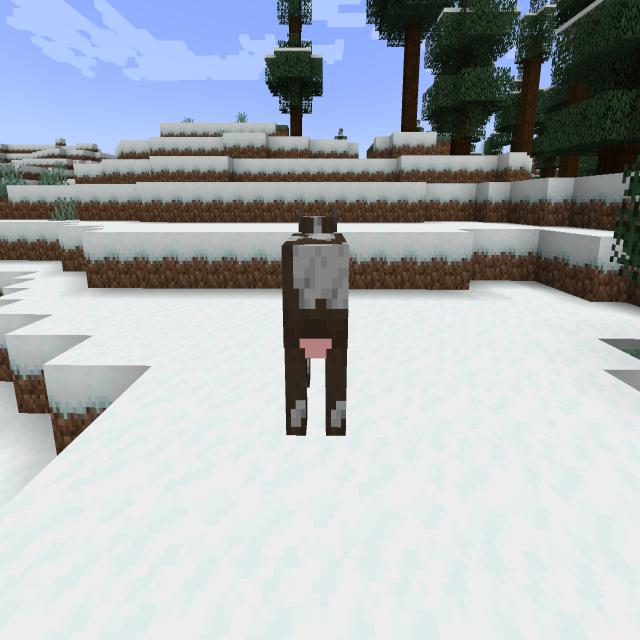cow: (276, 200, 356, 453)
